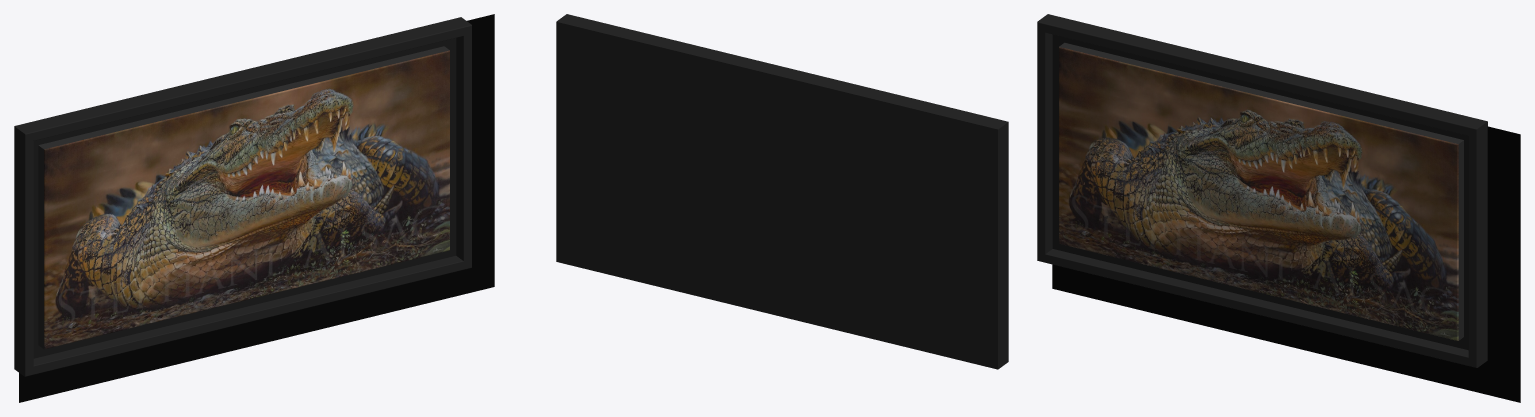
File: tableau-crocodile-classique-4bfffb15.glb
The picture shows the model from 3 angles, left to right: view 1: azimuth 30°, elevation 25°; view 2: azimuth 150°, elevation 25°; view 3: azimuth 330°, elevation 25°; orthographic projection.
Visible parts, largest first — view 1: Painting; view 2: Painting; view 3: Painting.
Boxes of the visible parts, x1,y1,x2,y2 form: Painting: (14, 14, 494, 402); Painting: (556, 14, 1008, 369); Painting: (1037, 14, 1520, 402).
Bounding box in the file's own units: 1.01 × 0.556 × 0.04.
Materials: 5 (3 with a texture image).
